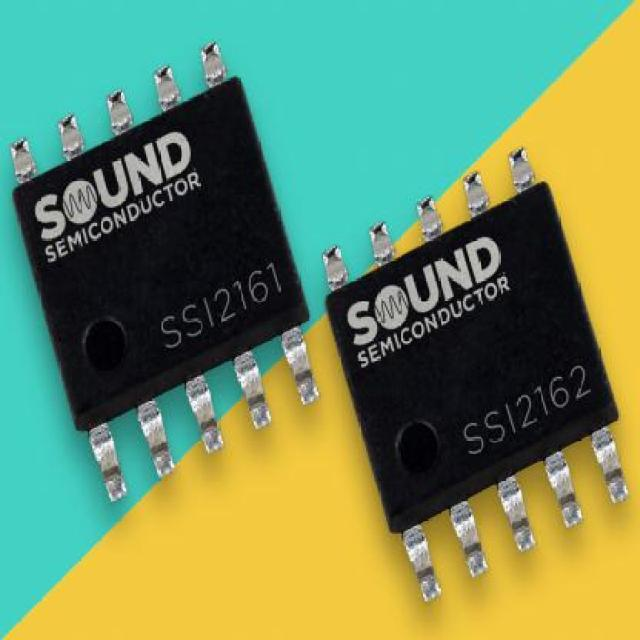IC chip: (14, 77, 309, 434), (325, 183, 620, 537)
